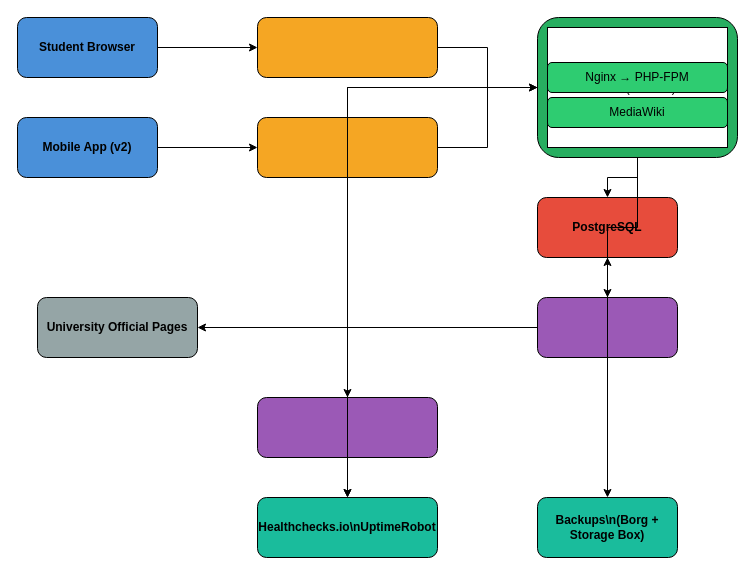
The diagram is 755 pixels wide and 575 high, and some of its shapes have lost their labels. Each missing label, with the box of its shape:
Cloudflare Edge: (256, 16, 438, 78)
Cloudflare Tunnel: (256, 116, 438, 178)
Media Storage\n(MinIO / B2): (256, 396, 438, 458)
Scraper Bot (Python): (536, 296, 678, 358)
